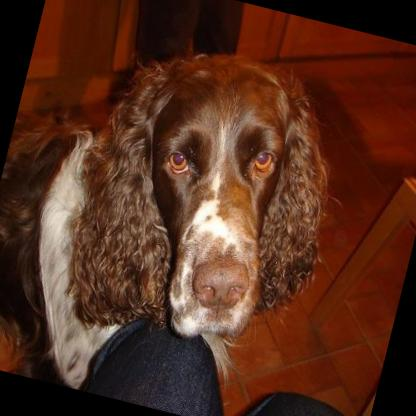English_springer: (0, 5, 361, 416)
